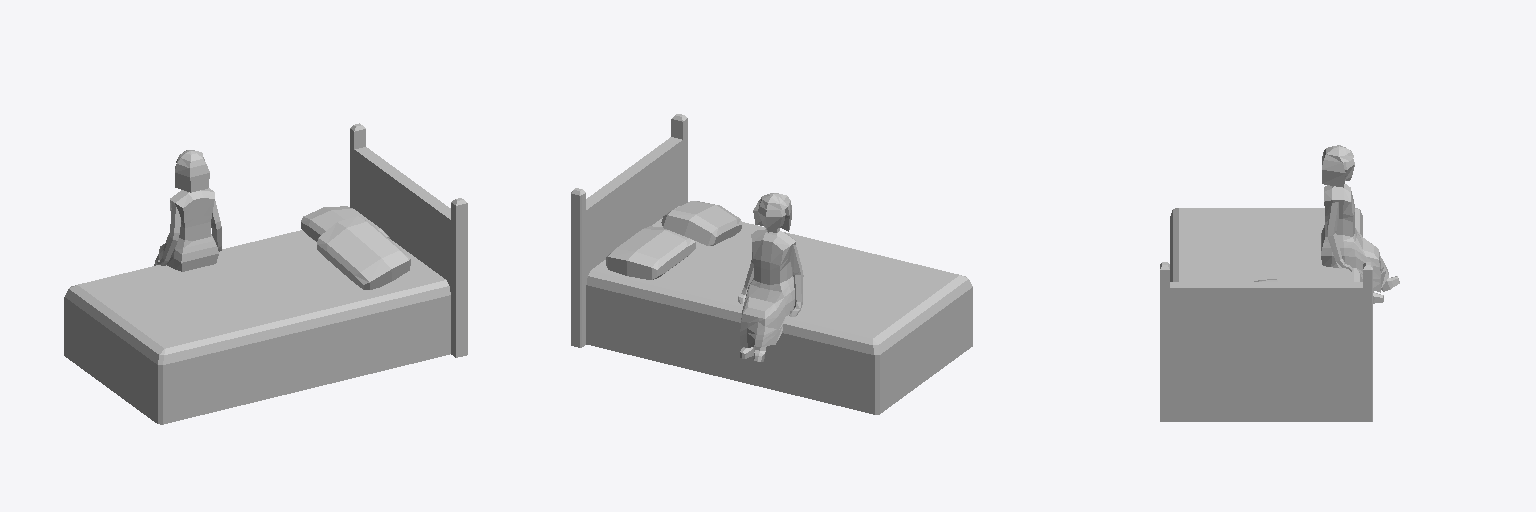
File: kidonbed.obj
The picture shows the model from 3 angles: view 1: azimuth 30°, elevation 25°; view 2: azimuth 150°, elevation 25°; view 3: azimuth 270°, elevation 25°; orthographic projection.
Visible parts, largest first — view 1: bed, pillow1, dress, pSphere1, pillow, old_hands; view 2: bed, dress, pillow, pillow1, old_hands, pSphere1; view 3: bed, dress, pSphere1, old_hands.
Part boxes in pixels (x1,y1,x2,y2): bed: (64,123,467,424); pillow1: (317,216,410,289); dress: (154,188,218,271); pSphere1: (175,150,209,192); pillow: (301,206,389,241); old_hands: (157,201,221,265); bed: (571,114,972,414); dress: (740,228,795,347); pillow: (606,226,695,279); pillow1: (661,201,742,245); old_hands: (738,245,803,316); pSphere1: (753,193,791,231); bed: (1160,208,1372,421); dress: (1321,184,1388,292); pSphere1: (1322,145,1353,187); old_hands: (1327,202,1352,271).
Size of the model in its own units: 4.47 by 2.6 by 3.06.